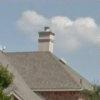Chimney: (33, 20, 61, 52)
